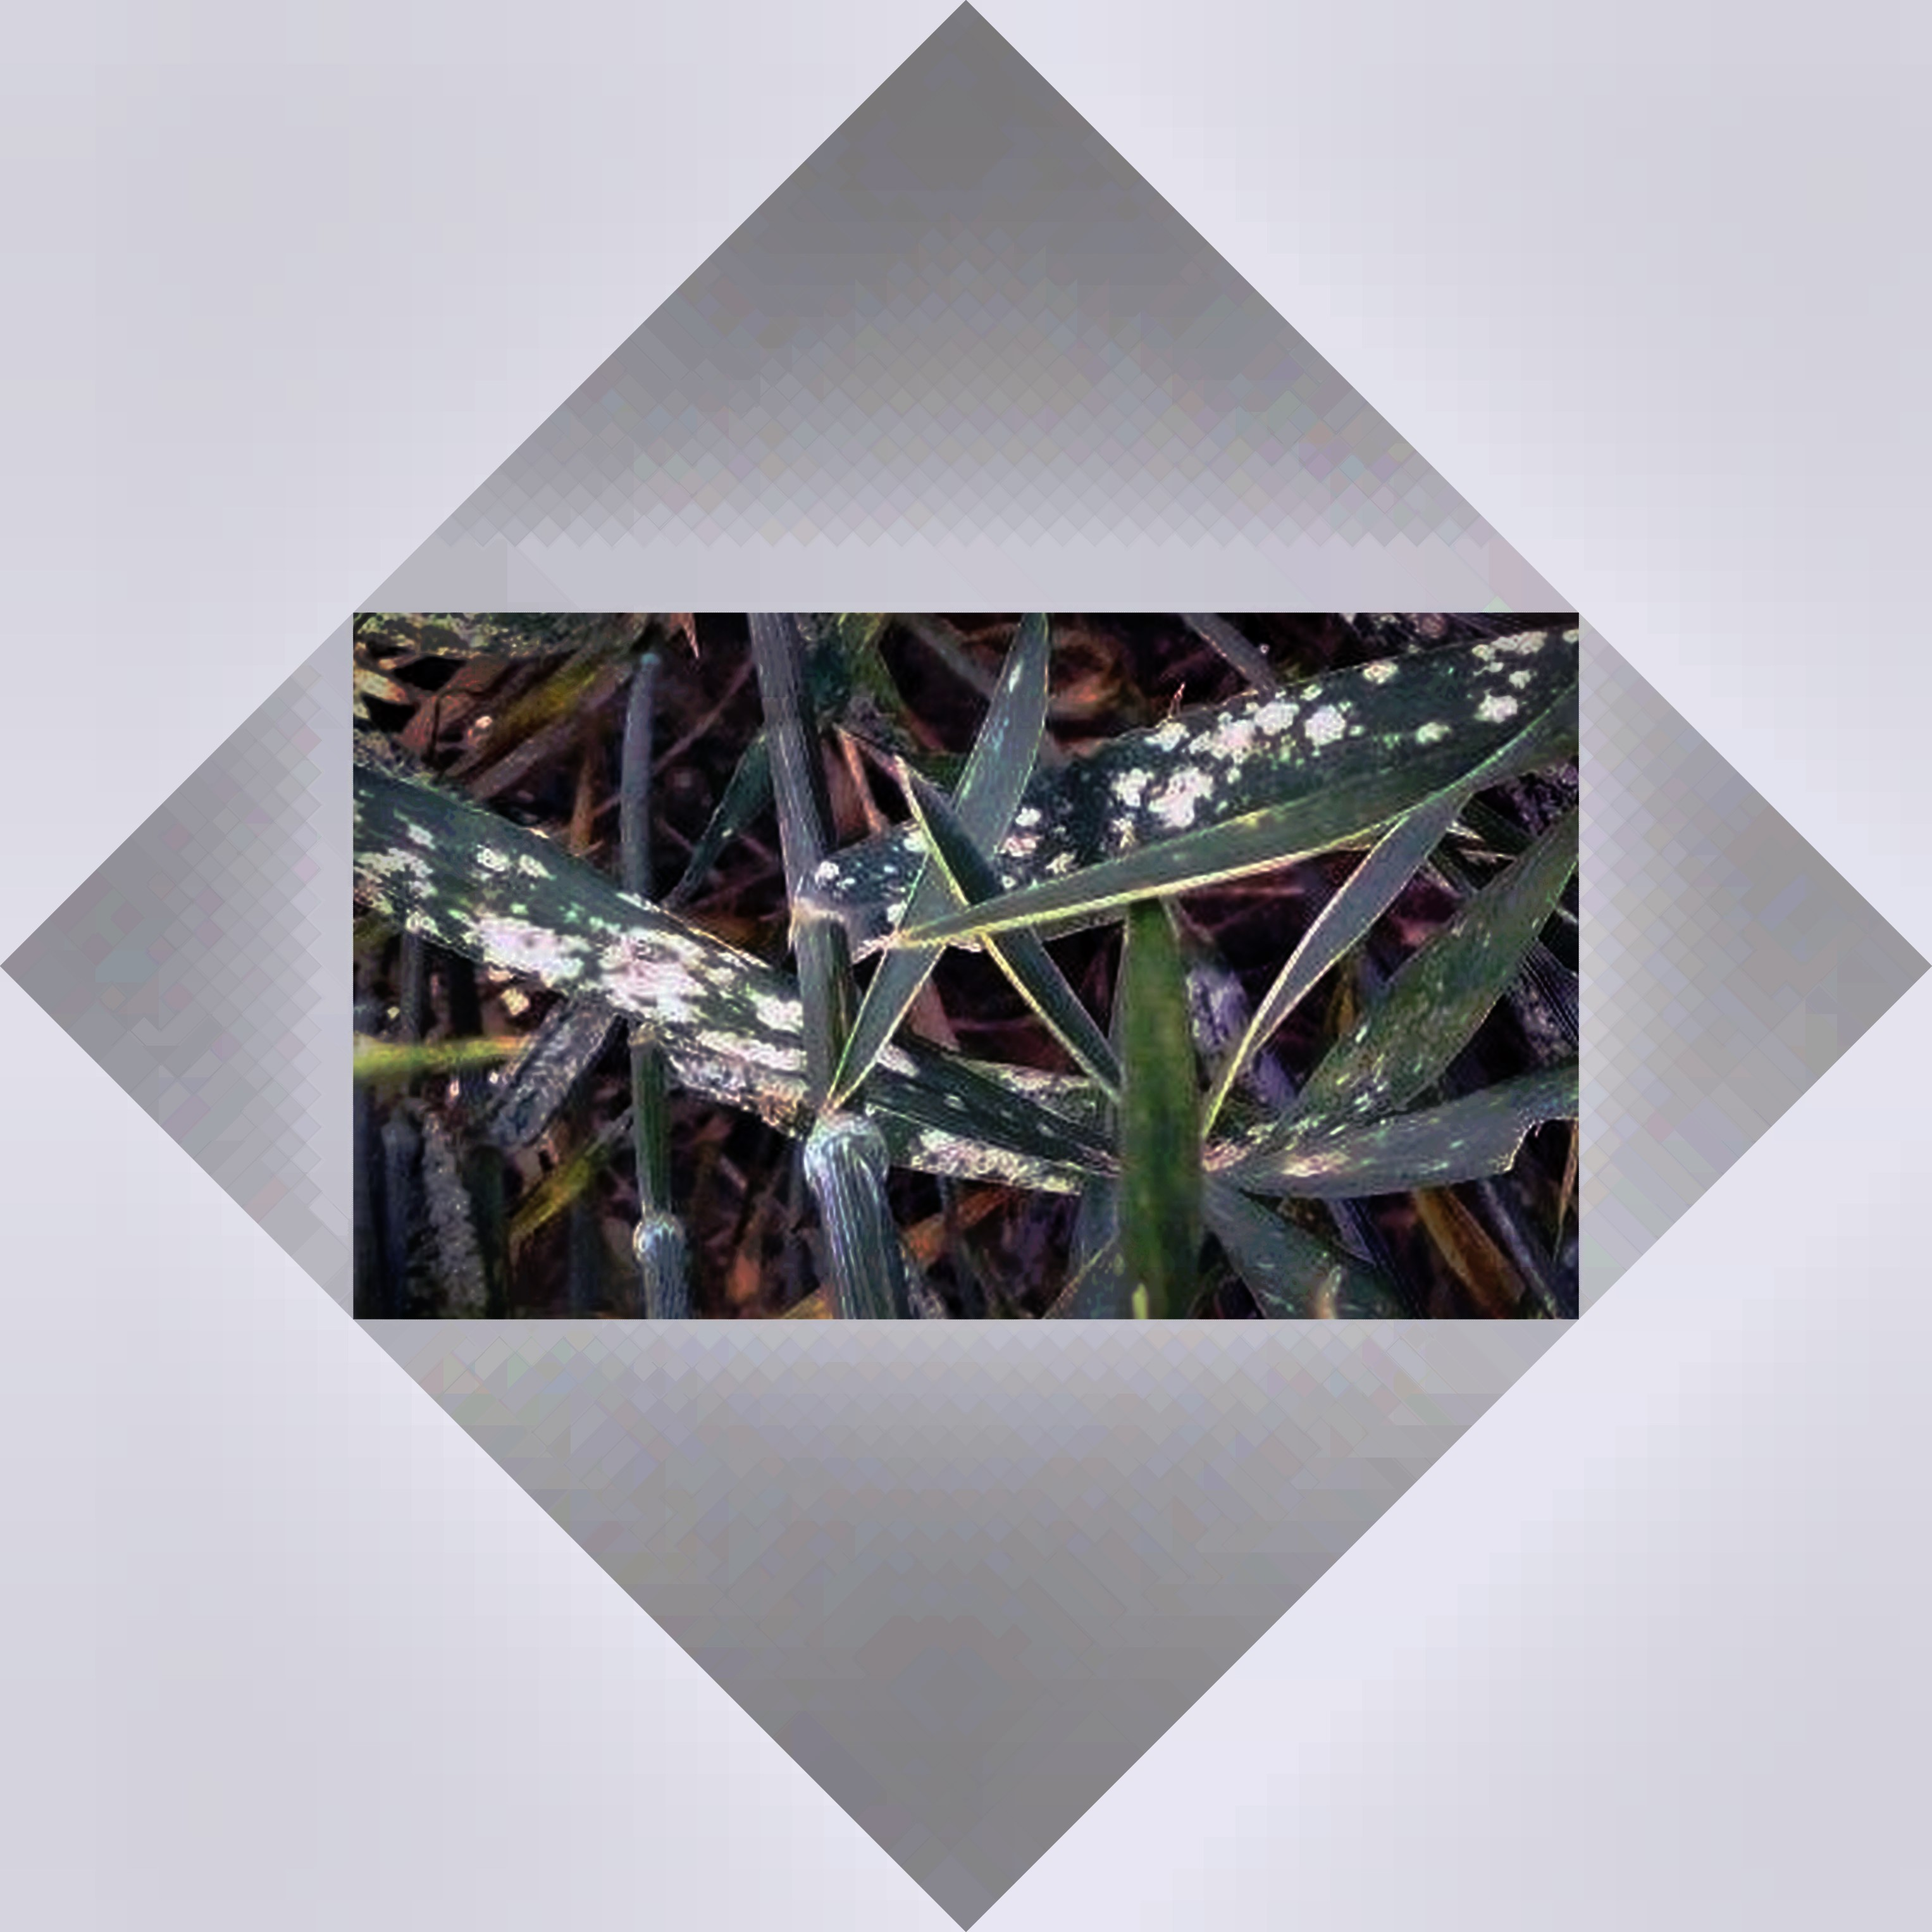Powdery Mildew: (991, 612, 1534, 888), (350, 782, 819, 1063)
